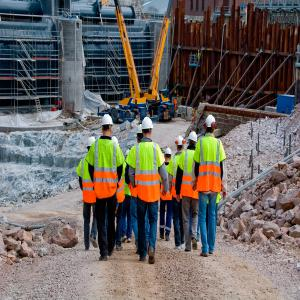white: (103, 115, 114, 138), (142, 118, 154, 139), (206, 116, 217, 134), (88, 138, 97, 154), (189, 132, 198, 148), (138, 125, 145, 144), (177, 136, 185, 152), (165, 148, 173, 162)
